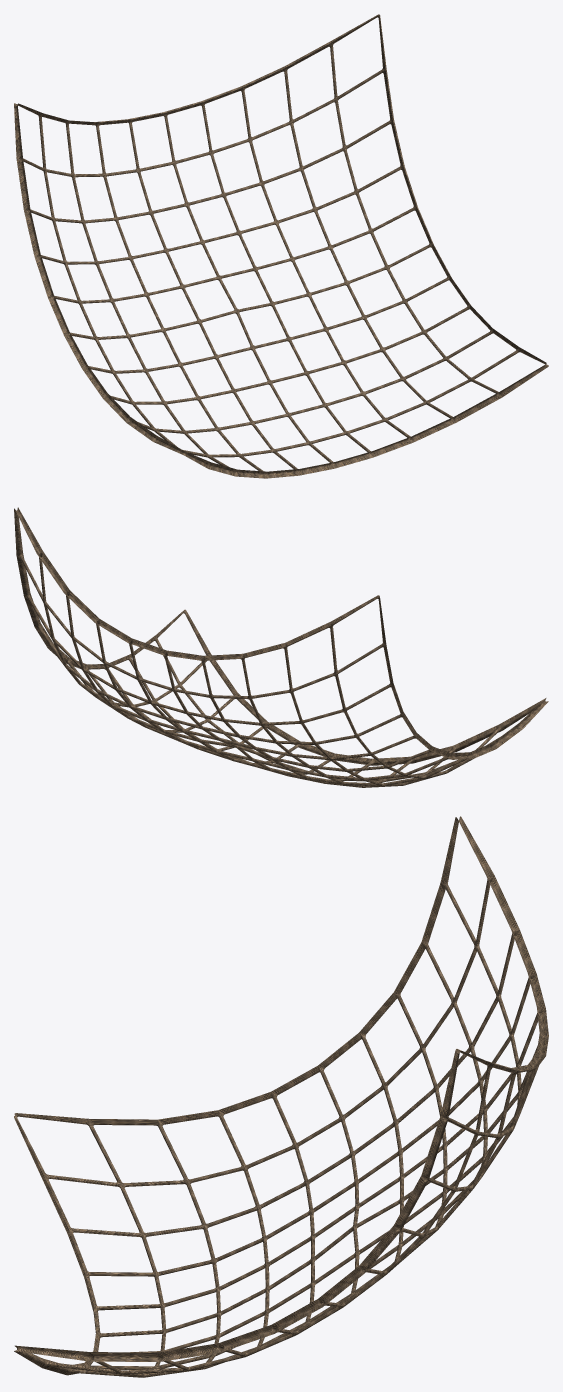
Rendered from maze.glb.
The picture shows the model from 3 angles, top to bottom: view 1: azimuth 30°, elevation 25°; view 2: azimuth 150°, elevation 25°; view 3: azimuth 270°, elevation 25°; orthographic projection. The views are drawn at different scales.
Parts seen in each view (by area): view 1: Grid; view 2: Grid; view 3: Grid.
Boxes of the visible parts, x1,y1,x2,y2 form: Grid: (14, 14, 548, 478); Grid: (14, 507, 548, 787); Grid: (14, 816, 548, 1377).
Size of the model in its own units: 2.03 by 1.62 by 1.93.
1 material, 1 textured.
